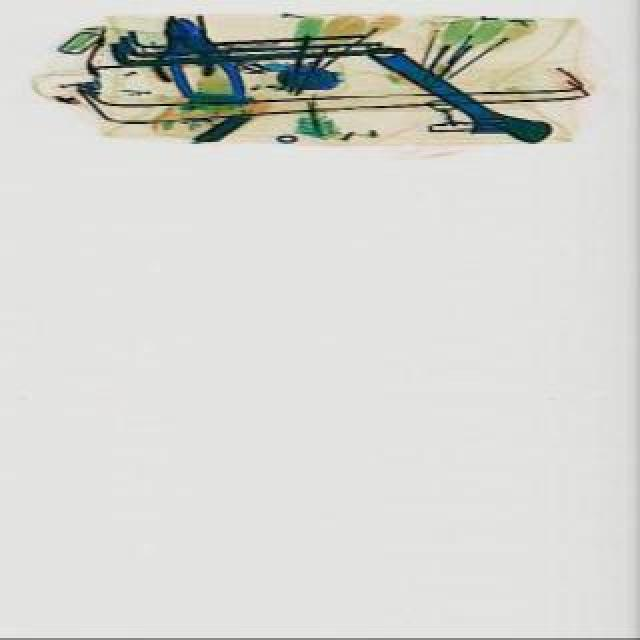scissors: (360, 28, 560, 164)
wrench: (156, 4, 252, 112), (146, 8, 224, 84)
